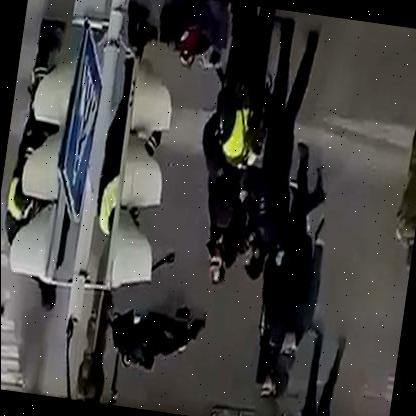rifle: (312, 211, 328, 245)
